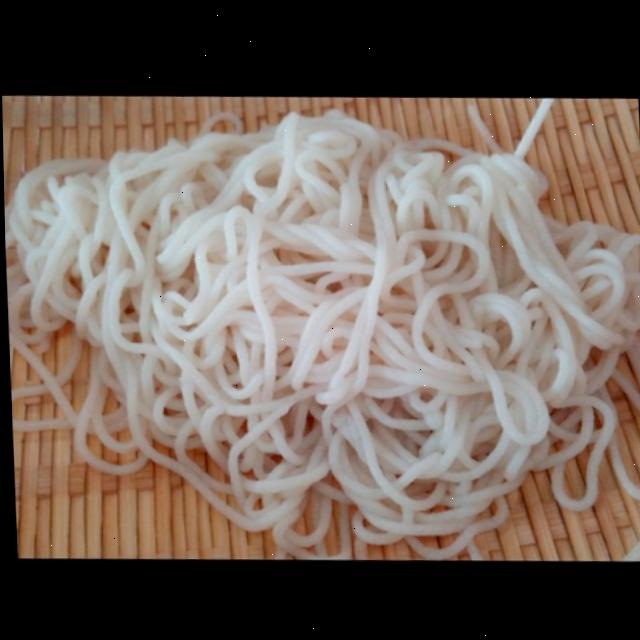面条主食: (1, 75, 640, 564)
